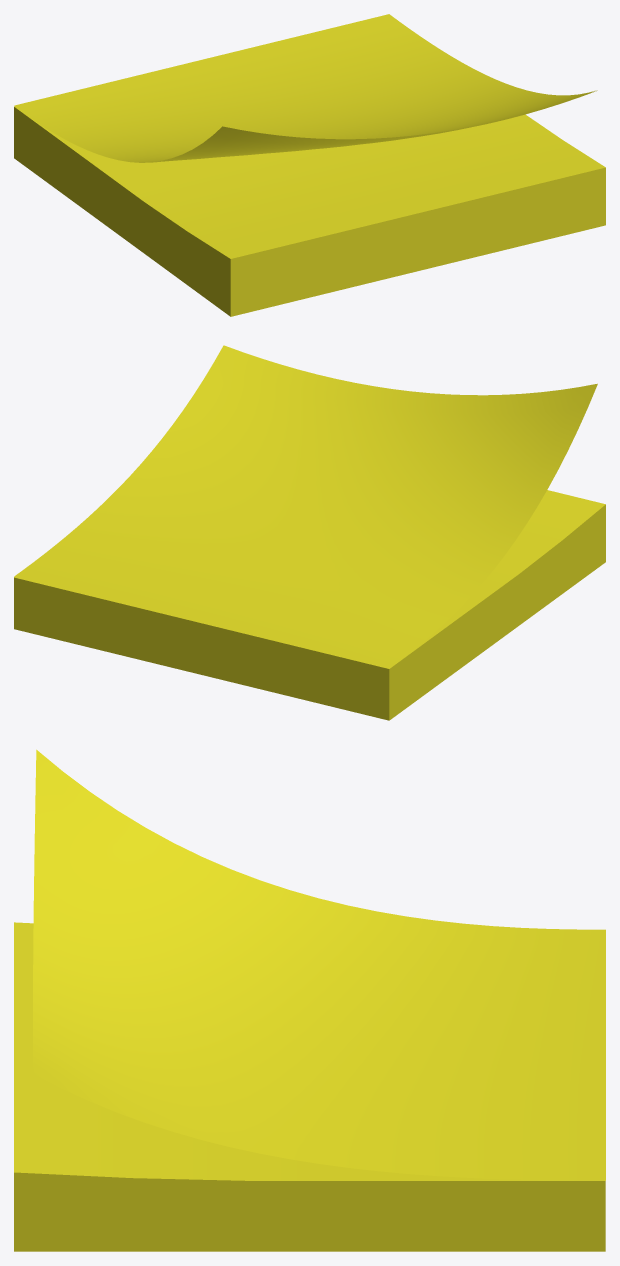
File: Postits.fbx
The picture shows the model from 3 angles, top to bottom: view 1: azimuth 30°, elevation 25°; view 2: azimuth 150°, elevation 25°; view 3: azimuth 270°, elevation 25°; orthographic projection. The views are drawn at different scales.
Parts seen in each view (by area): view 1: Post-Its; view 2: Post-Its; view 3: Post-Its.
Boxes of the visible parts, x1,y1,x2,y2 form: Post-Its: [14, 14, 605, 316]; Post-Its: [14, 345, 605, 720]; Post-Its: [14, 749, 605, 1251].
Size of the model in its own units: 7.6 by 3.57 by 7.6.
